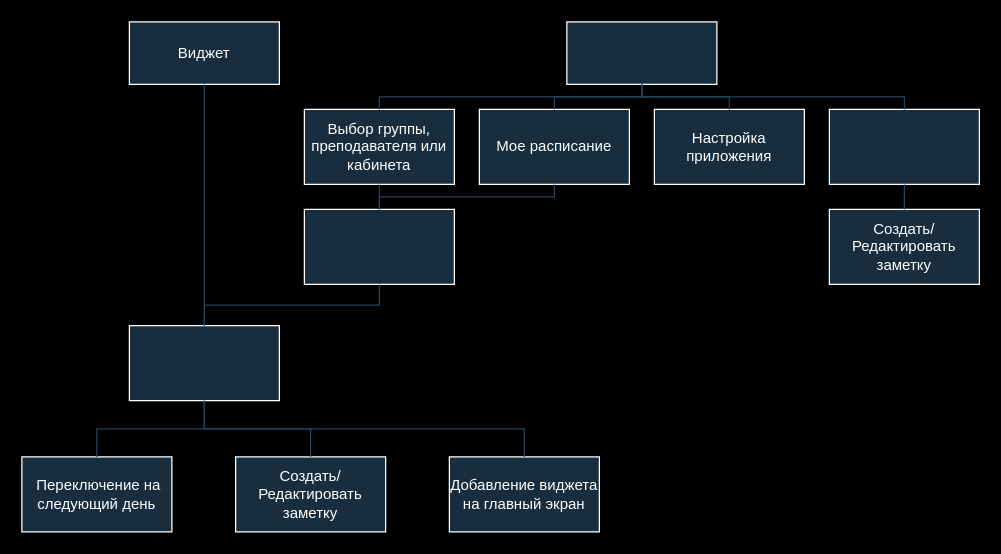
The diagram is 1001 pixels wide and 554 high, and some of its shapes have lost their labels. Here are the shapes that lost their labels. From the top down, the centre of each, then its label:
At [641,52]: "Главная страница".
At [903,146]: "Мои заметки".
At [378,246]: "Просмотр расписания".
At [203,362]: "Отображение расписания для текущего дня".
